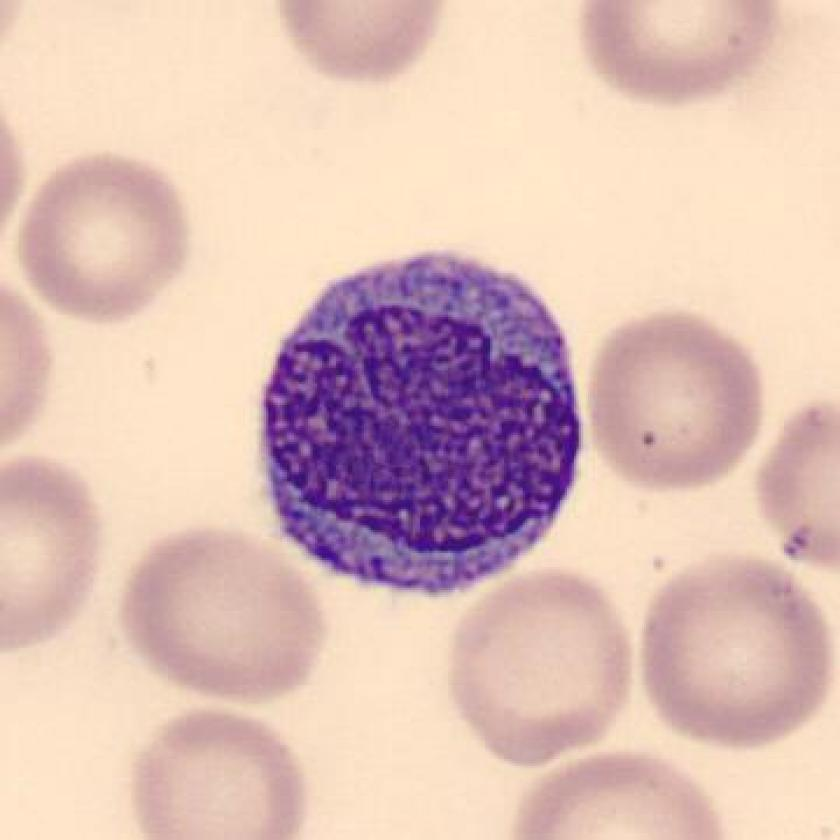monocyte: (230, 228, 629, 621)
